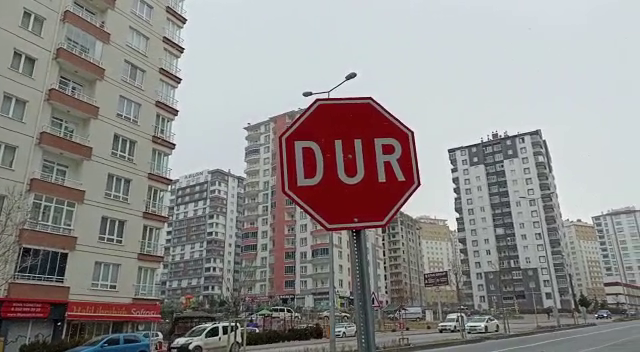stop: (275, 95, 424, 234)
